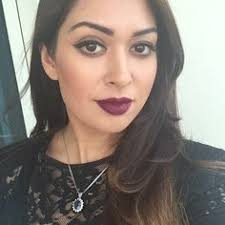middle_eastern_Female: (52, 3, 167, 122)
